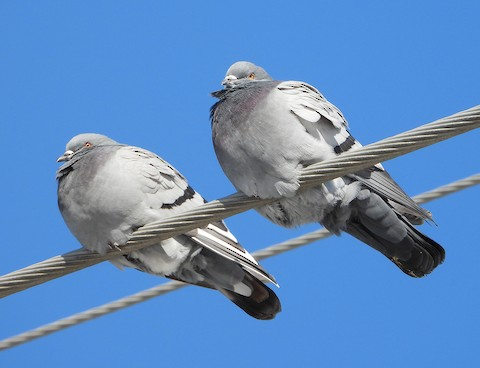pigeon: (207, 57, 452, 282), (50, 130, 287, 324)
